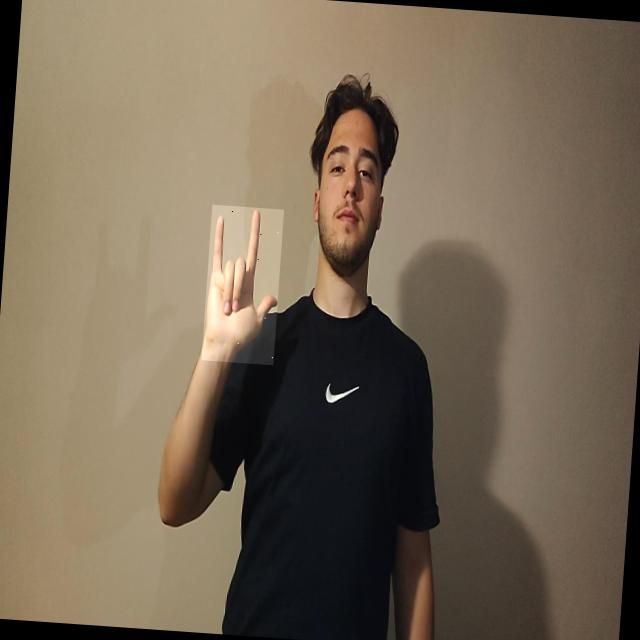iloveyou: (201, 204, 284, 366)
